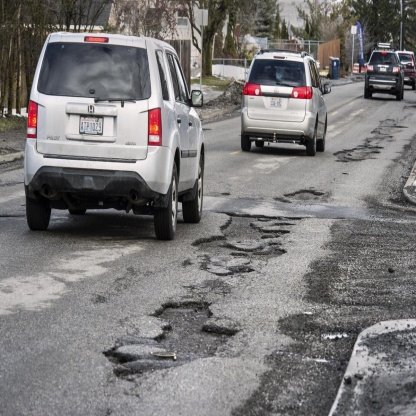pothole: (92, 293, 251, 381), (210, 203, 298, 273), (332, 115, 410, 166)
